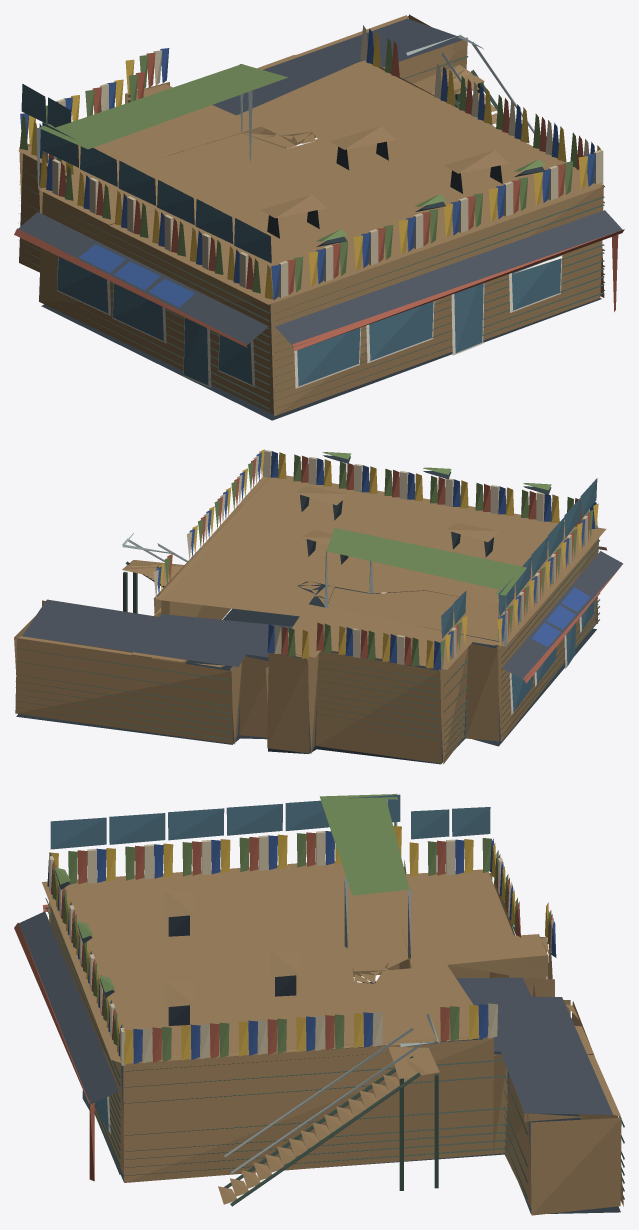
File: hannekes-boom.lod1.glb
3 views of the same model, one above another, from view 1: azimuth 30°, elevation 25°; view 2: azimuth 150°, elevation 25°; view 3: azimuth 270°, elevation 25° (orthographic). The views are drawn at different scales.
Parts seen in each view (by area): view 1: hannekes-boom; view 2: hannekes-boom; view 3: hannekes-boom.
Boxes of the visible parts, <box> form: hannekes-boom: <box>14,14,624,420</box>; hannekes-boom: <box>14,449,622,764</box>; hannekes-boom: <box>14,793,624,1215</box>.
Size of the model in its own units: 17.11 by 6.02 by 17.24.
